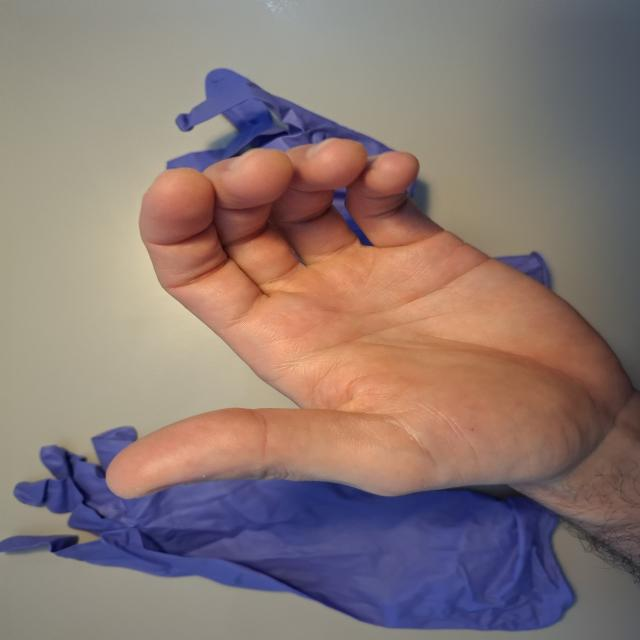glove_off: (101, 132, 626, 512)
